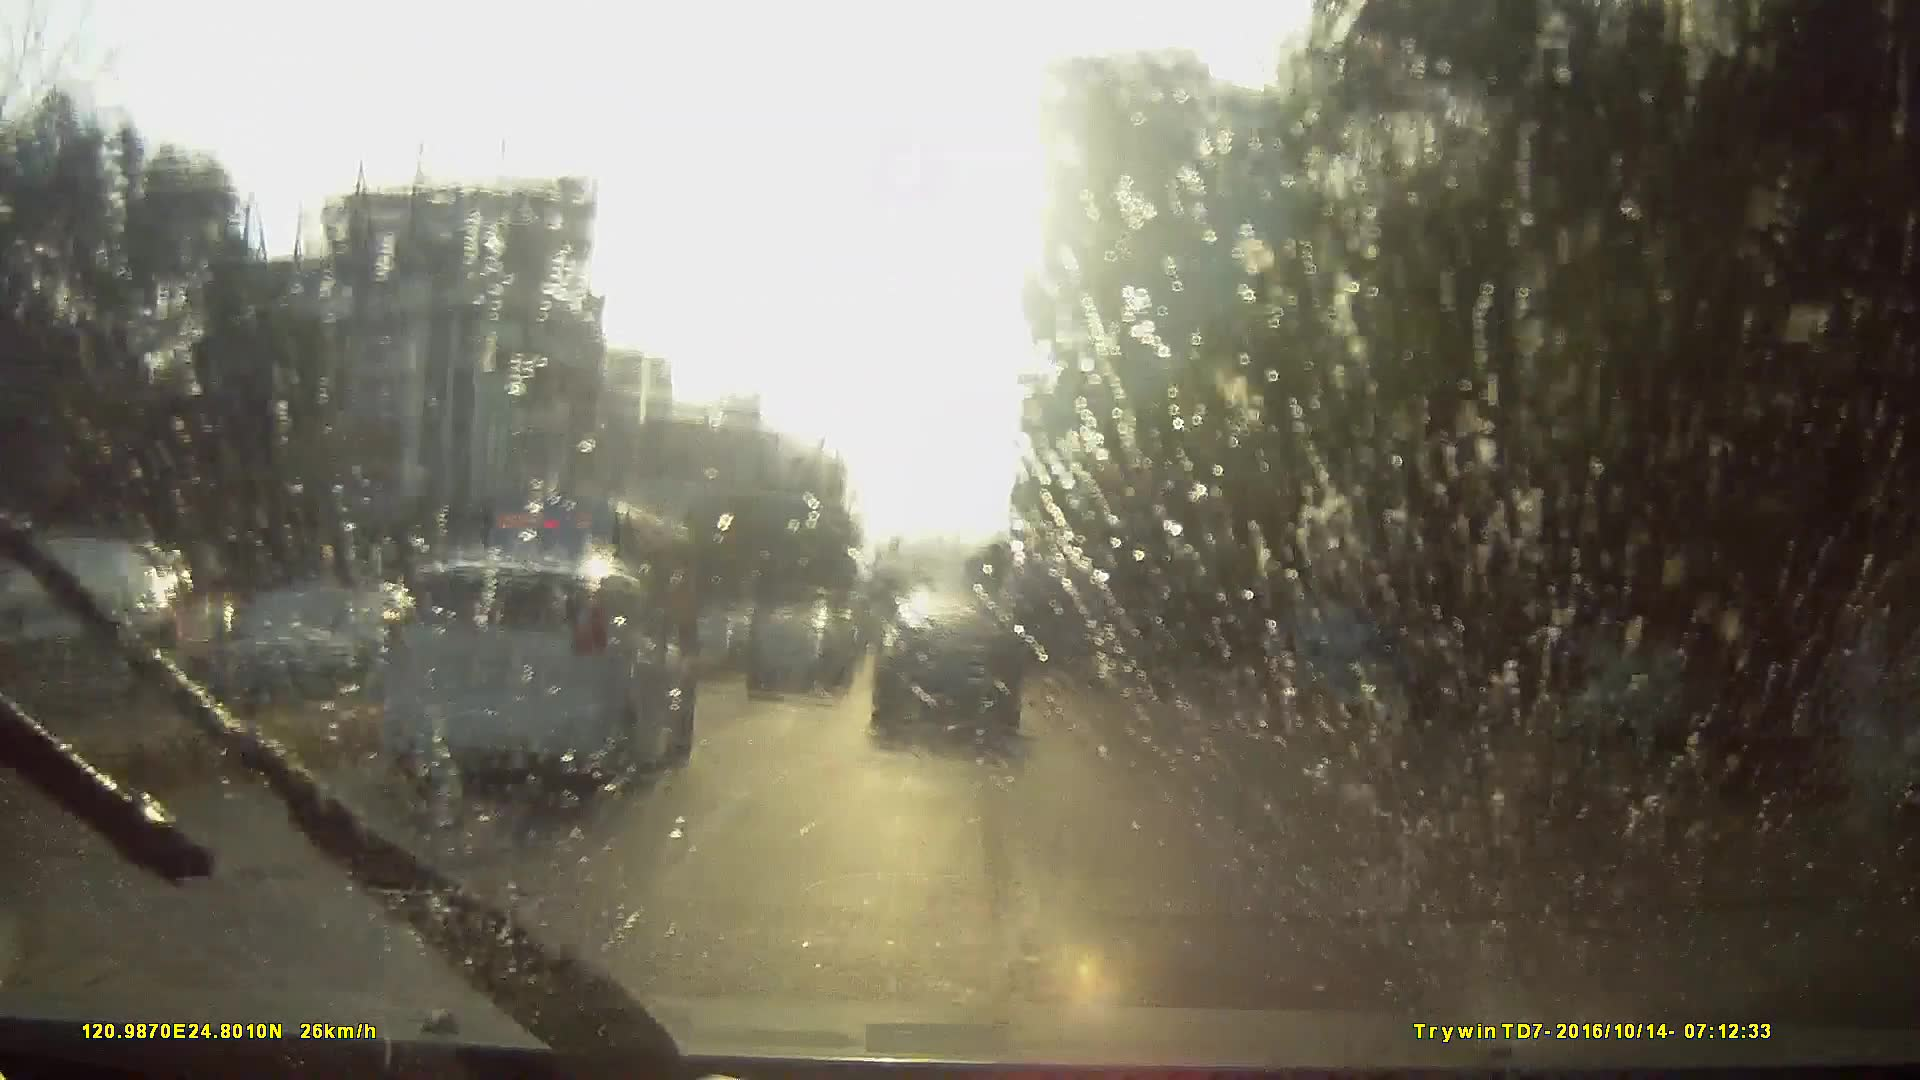vehicle: (251, 556, 684, 868), (386, 549, 699, 793), (444, 484, 717, 679), (872, 597, 1022, 756), (997, 558, 1102, 684), (737, 612, 847, 698), (866, 638, 915, 687)
